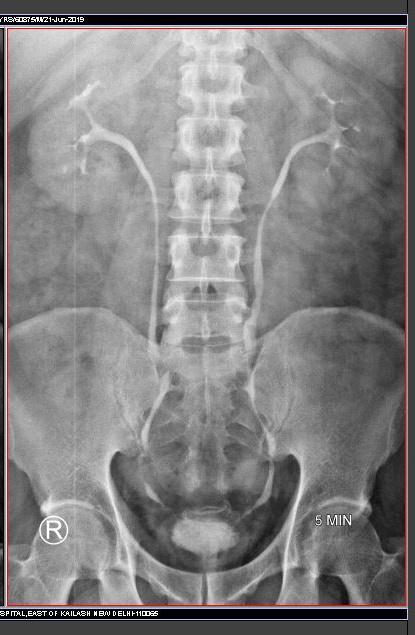bladder: (151, 506, 266, 580)
left kidney: (282, 36, 400, 207)
right kidney: (26, 40, 134, 217)
vertebrae: (177, 45, 255, 106)
